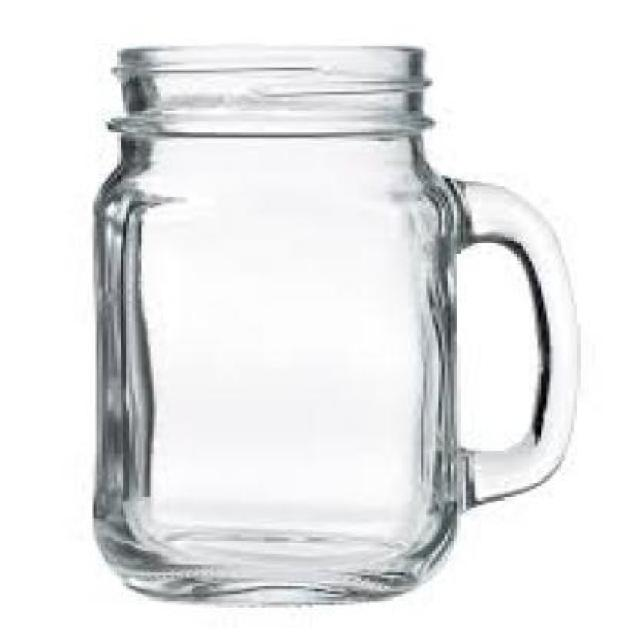kaca: (91, 46, 574, 611)
